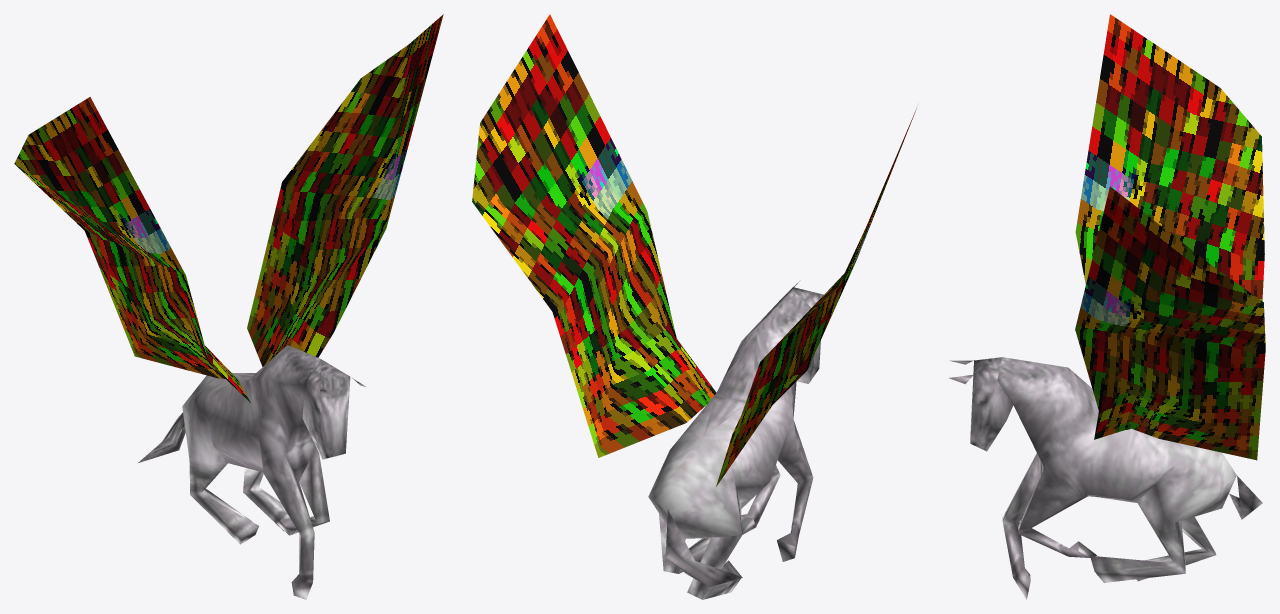
File: pegasus_base.glb
3 renders of one model, left to right at view 1: azimuth 30°, elevation 25°; view 2: azimuth 150°, elevation 25°; view 3: azimuth 270°, elevation 25°, orthographic. The views are drawn at different scales.
Visible parts, largest first — view 1: MeshRoot; view 2: MeshRoot; view 3: MeshRoot.
Boxes of the visible parts, x1,y1,x2,y2 form: MeshRoot: (14, 14, 443, 599); MeshRoot: (472, 14, 916, 599); MeshRoot: (949, 14, 1265, 599).
Size of the model in its own units: 3.45 by 4.52 by 2.59.
Materials: 3 (3 with a texture image).
